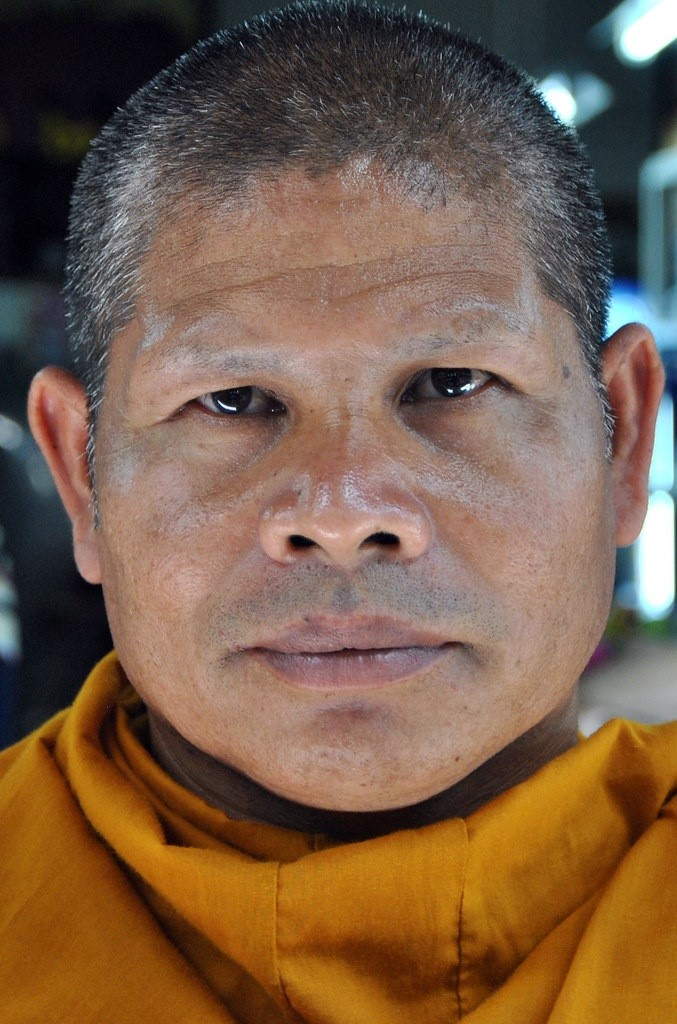face_no_mask: (29, 9, 661, 818)
